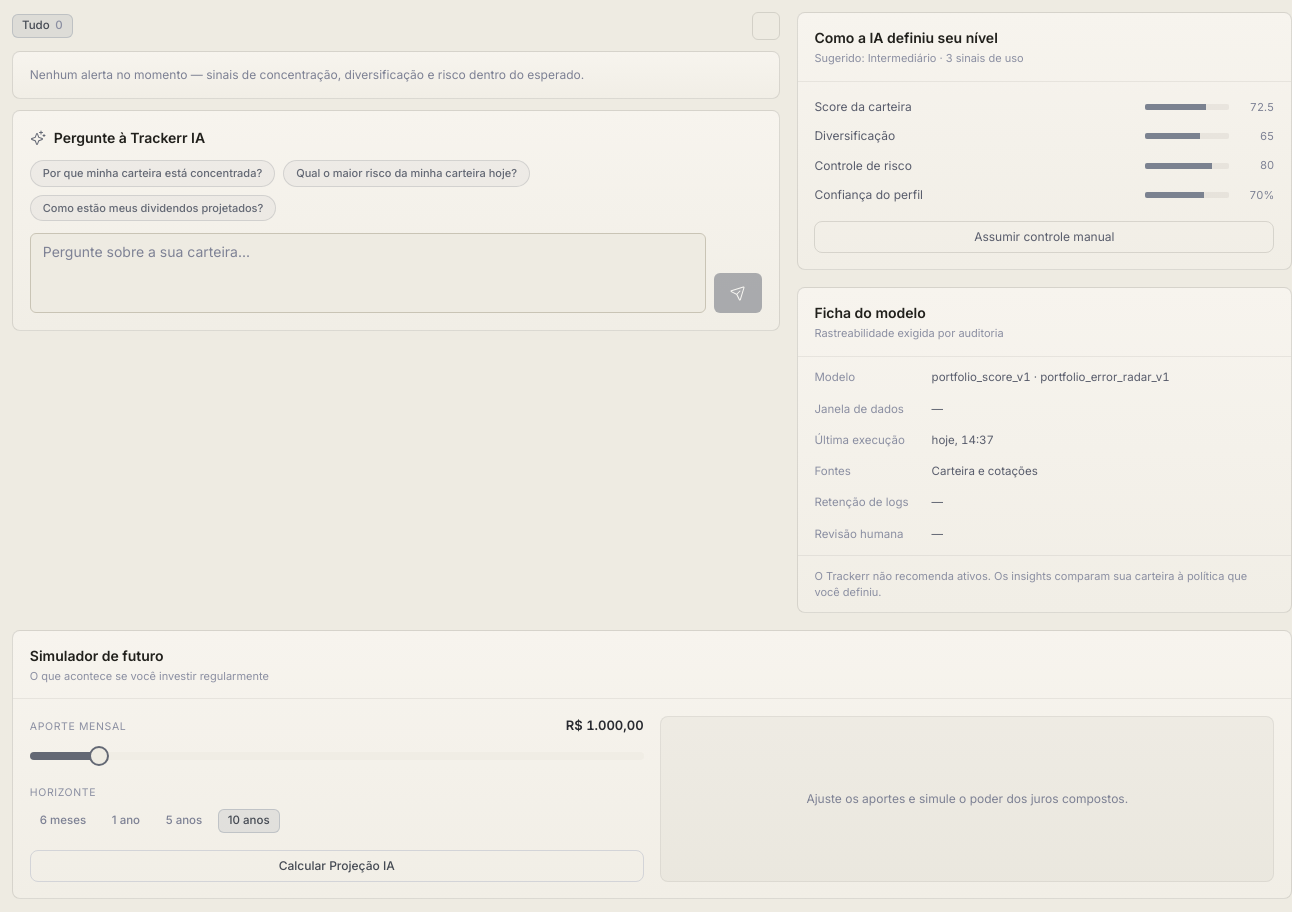
Test case: AIInsights — como a IA definiu seu nível › "Assumir controle manual" grava o nível atual como override no servidor
Expected: the text "Sugerido: Intermediário · 3 sinais de uso" is shown, [814,50,1024,66]
Click the button "Assumir controle manual": (1044, 237) [814,221,1274,253]
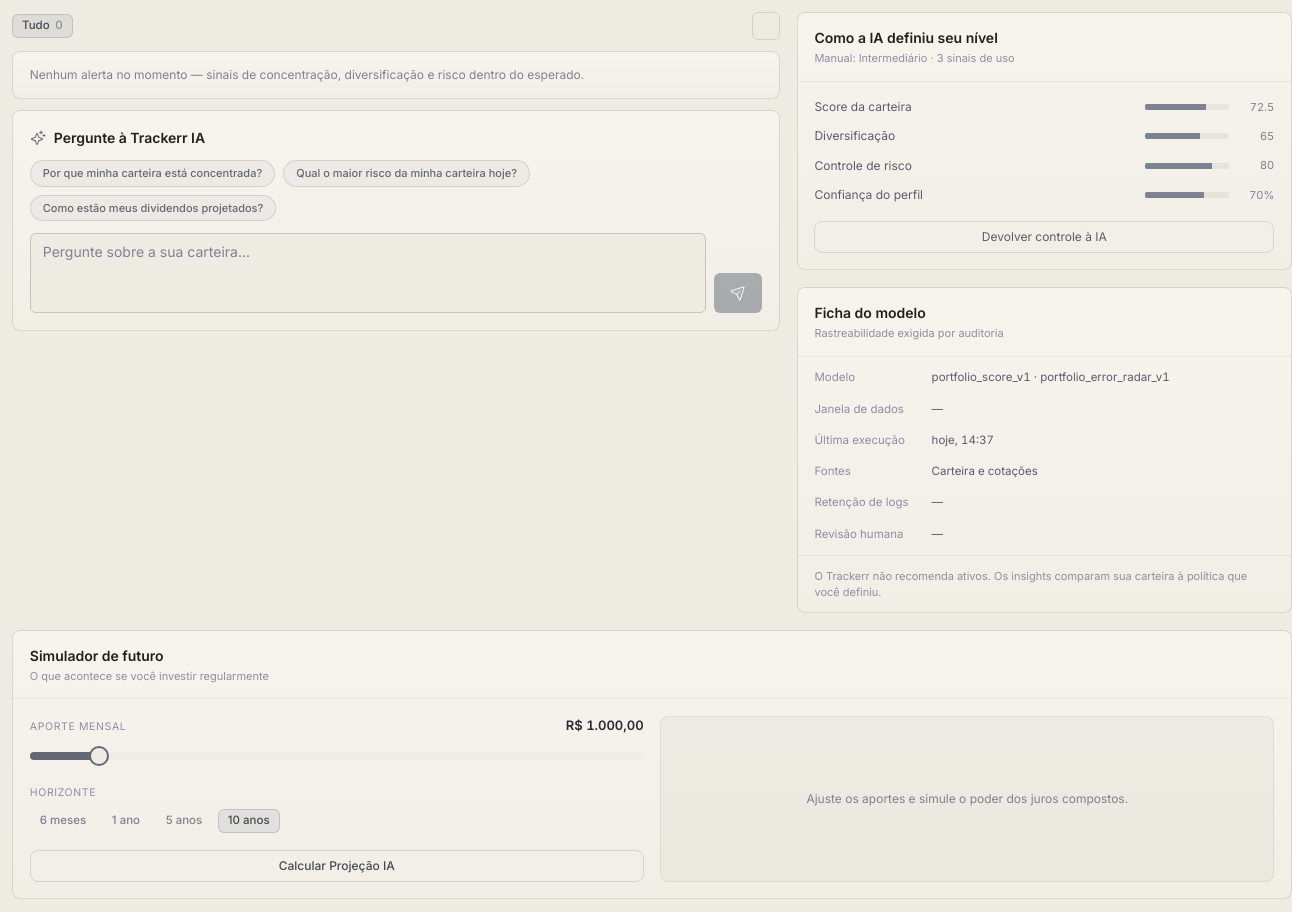
Expected: the button "Devolver controle à IA" is shown, [814,221,1274,253]
